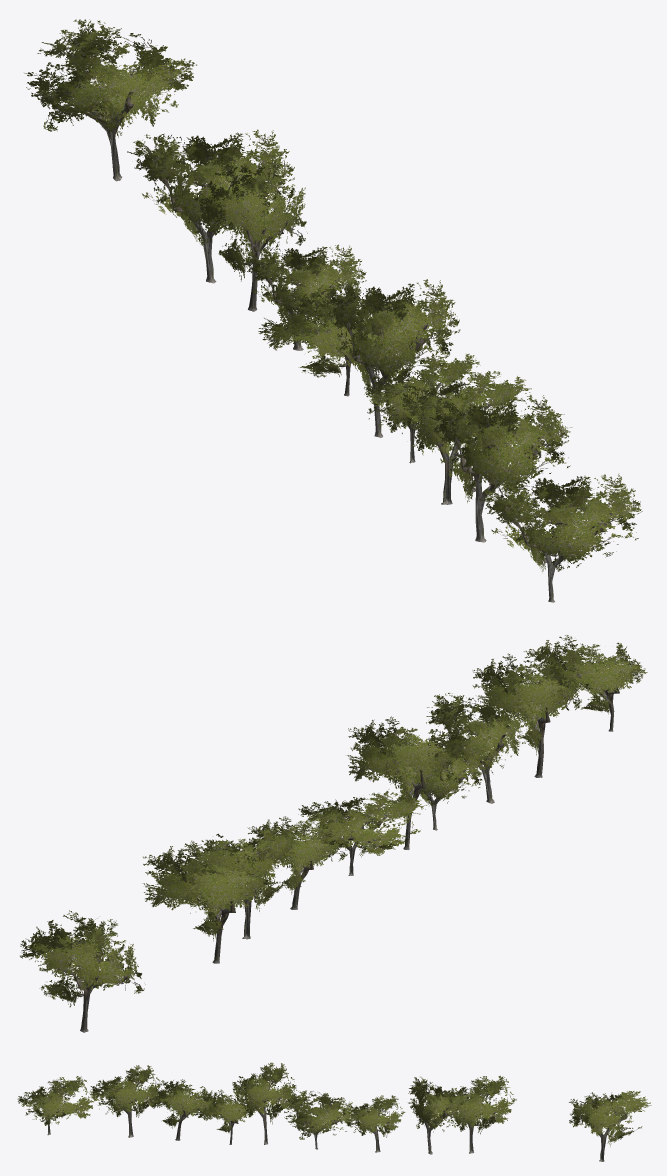
3 views of the same model, one above another, from view 1: azimuth 30°, elevation 25°; view 2: azimuth 150°, elevation 25°; view 3: azimuth 270°, elevation 25° (orthographic). The views are drawn at different scales.
Visible parts, largest first — view 1: Island tree branch clusters, Island tree bark; view 2: Island tree branch clusters, Island tree bark; view 3: Island tree branch clusters, Island tree bark.
Boxes of the visible parts, x1,y1,x2,y2 form: Island tree branch clusters: (24, 19, 642, 571); Island tree bark: (44, 48, 612, 602); Island tree branch clusters: (20, 635, 647, 1007); Island tree bark: (55, 656, 627, 1032); Island tree branch clusters: (17, 1062, 651, 1146); Island tree bark: (35, 1081, 635, 1161).
Bounding box in the file's own units: 25.51 × 16.32 × 122.
Materials: 2 (2 with a texture image).
